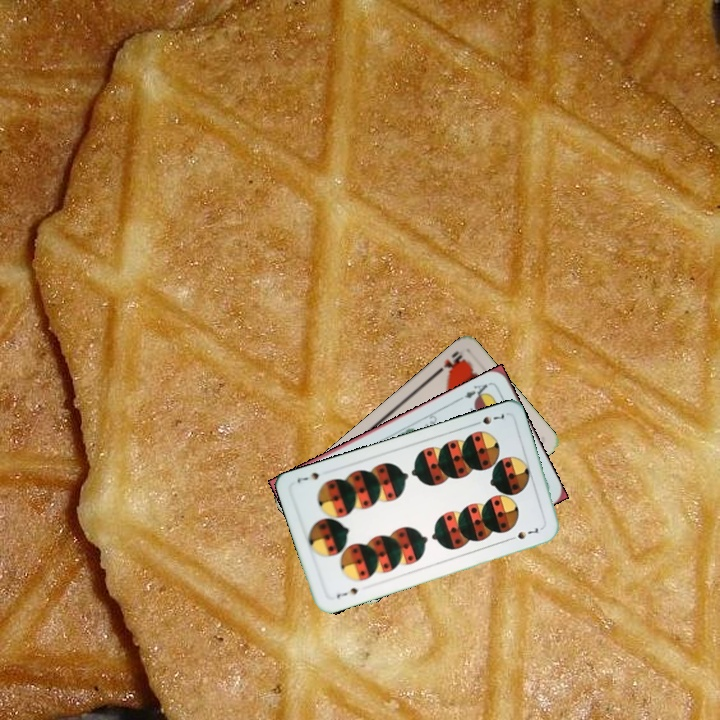EA: (460, 379, 493, 403)
HO: (431, 347, 467, 378)
S7: (469, 409, 509, 428), (332, 584, 361, 601)
